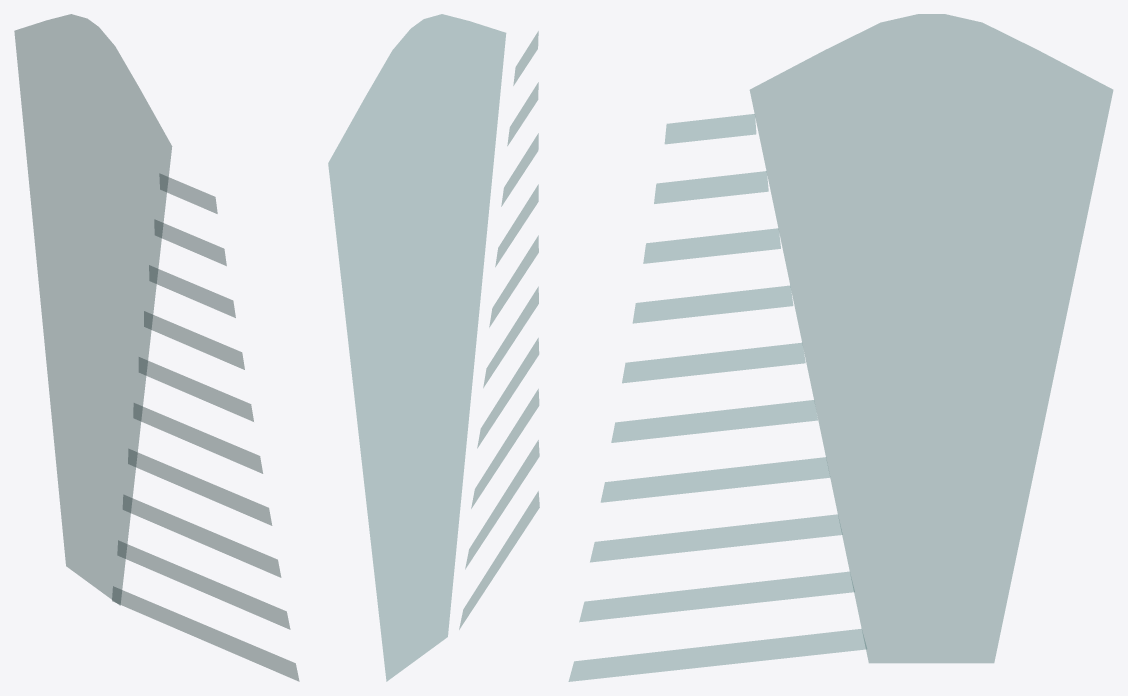
The model's file is m_arena_glass.fbx.
3 views of the same model, side by side, from view 1: azimuth 30°, elevation 25°; view 2: azimuth 150°, elevation 25°; view 3: azimuth 270°, elevation 25° (orthographic). The views are drawn at different scales.
Visible parts, largest first — view 1: glass; view 2: glass; view 3: glass.
Boxes of the visible parts, box(x1,y1,x2,y2) form: glass: box(14, 14, 299, 681); glass: box(328, 14, 539, 681); glass: box(568, 14, 1112, 681).
Bounding box in the file's own units: 3.59 × 32.56 × 24.78.
